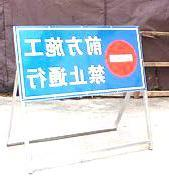sign: (15, 26, 151, 101)
